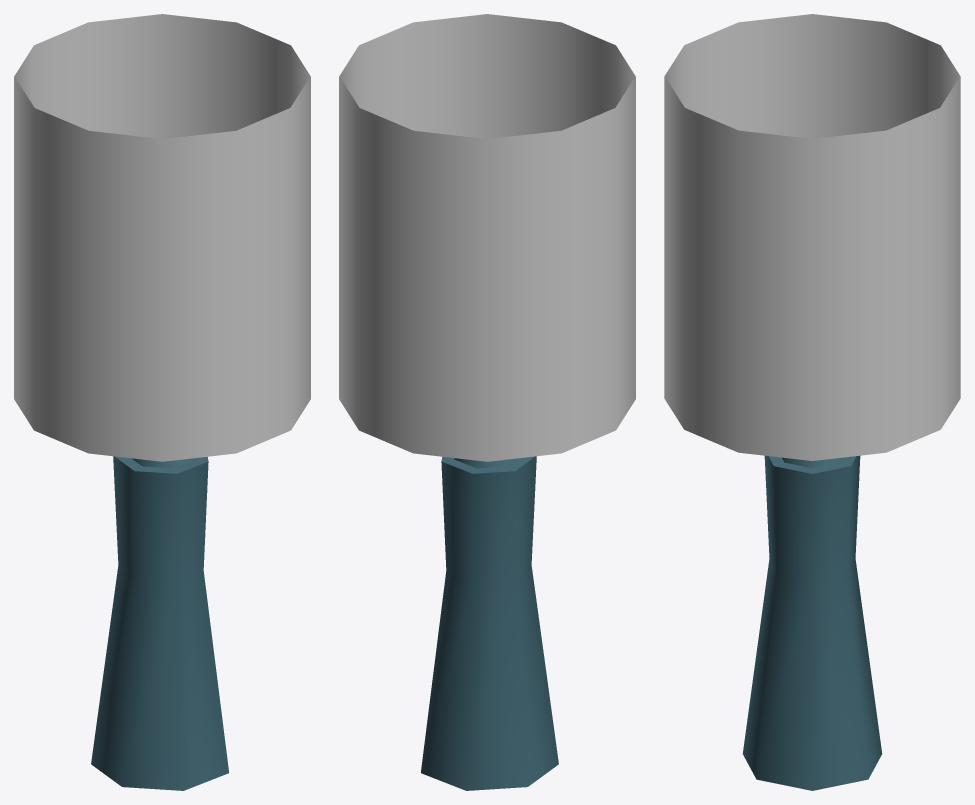
The model's file is lamp_025.glb.
3 renders of one model, left to right at view 1: azimuth 30°, elevation 25°; view 2: azimuth 150°, elevation 25°; view 3: azimuth 270°, elevation 25°, orthographic.
Parts seen in each view (by area): view 1: lamp_025; view 2: lamp_025; view 3: lamp_025.
Part boxes in pixels (x1,y1,x2,y2): lamp_025: (14, 14, 310, 790); lamp_025: (339, 14, 635, 790); lamp_025: (664, 14, 960, 790).
Bounding box in the file's own units: 0.2515 × 0.6405 × 0.2515.
1 material, 1 textured.
